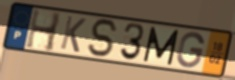3: (120, 22, 147, 62)
G: (175, 31, 206, 70)
H: (24, 8, 64, 54)
K: (58, 14, 88, 55)
M: (142, 25, 181, 66)
S: (87, 18, 120, 59)
